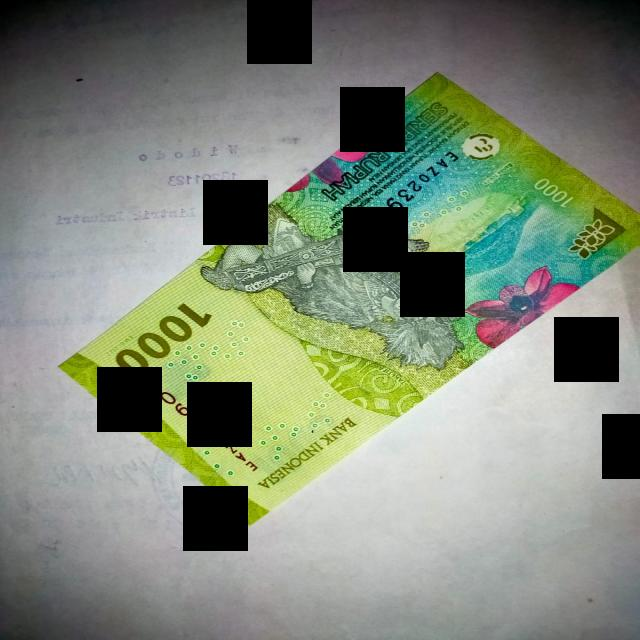seribu rupiah: (62, 74, 638, 522)
